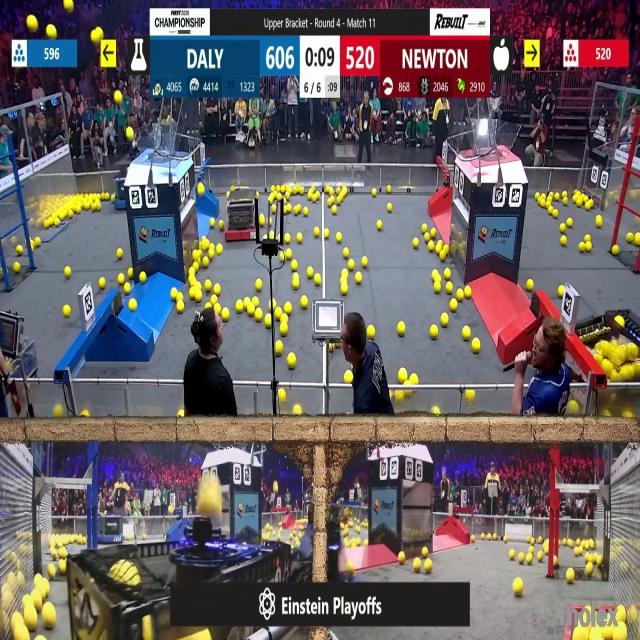ball_airborne: (205, 492, 222, 516), (28, 15, 38, 30), (46, 26, 56, 39), (64, 0, 74, 11), (114, 92, 122, 105), (127, 129, 134, 141), (274, 482, 279, 494)
ball_ground: (42, 606, 54, 630), (26, 612, 38, 632), (515, 580, 524, 597), (464, 389, 474, 402), (288, 353, 296, 368), (397, 368, 406, 381), (566, 568, 574, 582), (429, 324, 437, 338), (278, 388, 286, 402), (48, 564, 56, 578), (59, 560, 67, 574), (55, 407, 64, 419), (471, 340, 479, 353), (366, 325, 374, 338), (462, 326, 470, 339), (442, 313, 450, 326), (276, 342, 284, 355), (414, 559, 422, 572), (345, 372, 353, 384), (280, 322, 288, 334), (176, 302, 184, 314), (424, 560, 432, 572), (275, 308, 283, 320), (266, 315, 274, 327), (246, 306, 254, 318), (395, 390, 403, 402), (202, 238, 210, 250), (397, 322, 404, 335), (254, 309, 261, 322), (292, 407, 301, 417), (450, 301, 458, 312), (130, 301, 138, 312), (284, 304, 292, 315), (446, 283, 454, 294), (244, 297, 252, 308), (572, 629, 580, 640), (237, 302, 244, 314), (221, 309, 228, 321), (411, 374, 418, 386), (65, 267, 72, 279), (587, 563, 594, 575), (596, 216, 603, 228), (302, 296, 309, 308), (60, 548, 67, 560), (290, 262, 298, 272), (187, 288, 195, 298), (432, 408, 440, 418), (284, 250, 292, 260), (348, 560, 354, 573), (526, 280, 533, 291), (194, 290, 201, 301), (348, 261, 355, 272), (203, 256, 210, 267), (431, 271, 438, 282), (434, 282, 441, 293), (205, 280, 212, 291), (457, 289, 464, 300), (355, 273, 361, 285), (464, 286, 470, 298), (64, 306, 70, 318), (255, 280, 261, 292), (398, 553, 404, 565), (292, 278, 298, 290), (292, 206, 300, 215), (611, 246, 618, 256), (627, 234, 634, 244), (213, 284, 220, 294), (445, 270, 452, 280), (12, 264, 19, 274), (586, 201, 593, 211), (191, 250, 198, 260), (585, 553, 592, 563), (281, 312, 288, 322), (100, 278, 106, 289), (123, 283, 129, 294), (361, 256, 367, 267), (172, 288, 178, 299), (558, 286, 564, 297), (117, 274, 123, 285), (315, 275, 321, 286), (308, 268, 314, 279), (116, 248, 122, 259), (526, 554, 532, 565), (199, 184, 205, 195), (211, 294, 218, 303), (507, 551, 514, 560), (342, 271, 349, 280), (82, 201, 89, 210), (140, 273, 146, 283), (561, 237, 567, 247), (128, 270, 134, 280), (258, 215, 264, 225), (578, 242, 584, 252), (337, 234, 343, 244), (216, 244, 222, 254), (284, 234, 290, 244), (342, 284, 348, 294), (428, 242, 434, 252), (16, 245, 22, 255), (519, 554, 525, 564), (441, 251, 447, 261), (190, 278, 196, 288), (208, 249, 214, 259), (435, 244, 441, 254), (213, 305, 220, 313), (178, 411, 185, 419), (81, 411, 88, 419), (187, 268, 194, 276), (587, 242, 592, 253), (635, 235, 640, 246), (35, 238, 41, 247), (331, 206, 337, 215), (314, 229, 320, 238), (537, 553, 543, 562), (413, 239, 419, 248), (252, 295, 258, 304), (560, 223, 566, 232), (422, 546, 428, 555), (575, 199, 581, 208), (574, 548, 580, 557), (324, 230, 329, 240), (296, 234, 301, 244), (344, 248, 349, 258), (430, 230, 435, 240), (327, 198, 332, 208), (96, 202, 101, 212), (370, 188, 376, 196), (387, 204, 393, 212), (539, 200, 545, 208), (424, 234, 430, 242), (283, 206, 289, 214), (68, 210, 74, 218), (205, 303, 211, 311), (528, 544, 534, 552), (44, 220, 50, 228), (308, 190, 314, 198), (567, 218, 572, 227), (210, 218, 215, 227), (219, 220, 224, 229), (193, 264, 198, 273), (543, 543, 548, 552), (555, 192, 561, 199), (562, 190, 568, 197), (488, 536, 494, 543), (280, 251, 284, 261), (554, 557, 558, 567), (304, 208, 309, 216), (272, 206, 277, 214), (272, 298, 277, 306), (277, 235, 282, 243), (277, 194, 282, 202), (266, 234, 271, 242), (56, 218, 61, 226), (169, 505, 174, 513), (549, 195, 554, 203), (378, 220, 382, 229), (554, 209, 558, 218), (423, 223, 427, 232), (142, 534, 148, 540), (586, 235, 591, 242), (387, 185, 392, 192), (563, 199, 568, 206), (547, 208, 552, 215), (356, 526, 361, 533), (530, 537, 535, 544), (111, 194, 115, 202), (338, 198, 342, 206), (36, 636, 44, 640), (128, 534, 133, 540), (473, 538, 477, 545), (364, 539, 368, 546), (538, 195, 542, 202), (503, 535, 507, 542), (482, 534, 486, 540), (328, 345, 331, 351), (226, 190, 228, 197)
goal: (465, 122, 521, 160), (130, 129, 188, 160)
robot_blue: (70, 544, 166, 635)
robot_red: (573, 313, 633, 377), (227, 188, 260, 241)
